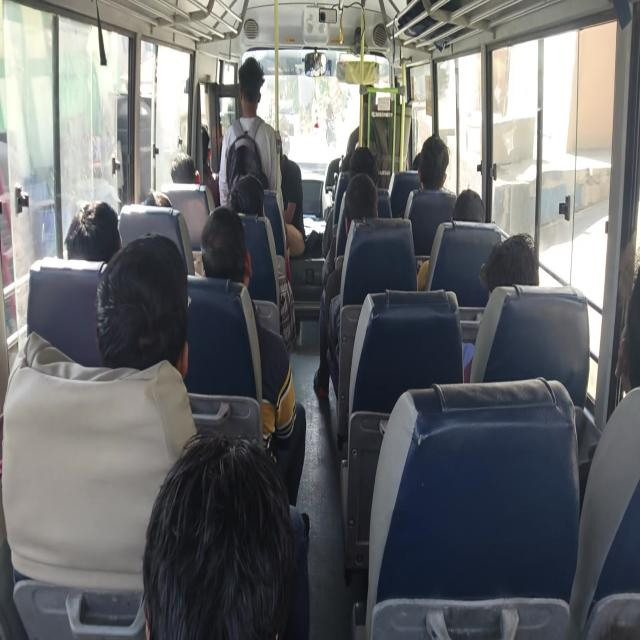person: (155, 448, 321, 640), (100, 248, 190, 390), (488, 224, 570, 376), (50, 206, 124, 285), (615, 266, 640, 465), (273, 101, 303, 196), (203, 214, 244, 276), (455, 180, 492, 246), (412, 136, 452, 197), (229, 65, 270, 124), (225, 170, 263, 223), (349, 181, 376, 236), (166, 152, 201, 191), (356, 141, 377, 188), (136, 191, 170, 217), (200, 114, 220, 148), (253, 162, 274, 192), (413, 143, 424, 169)
